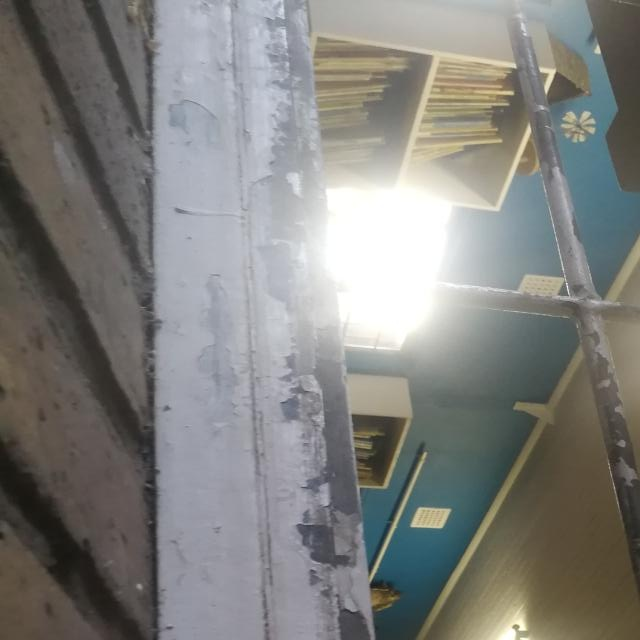fluorescent tube: (422, 613, 551, 640)
